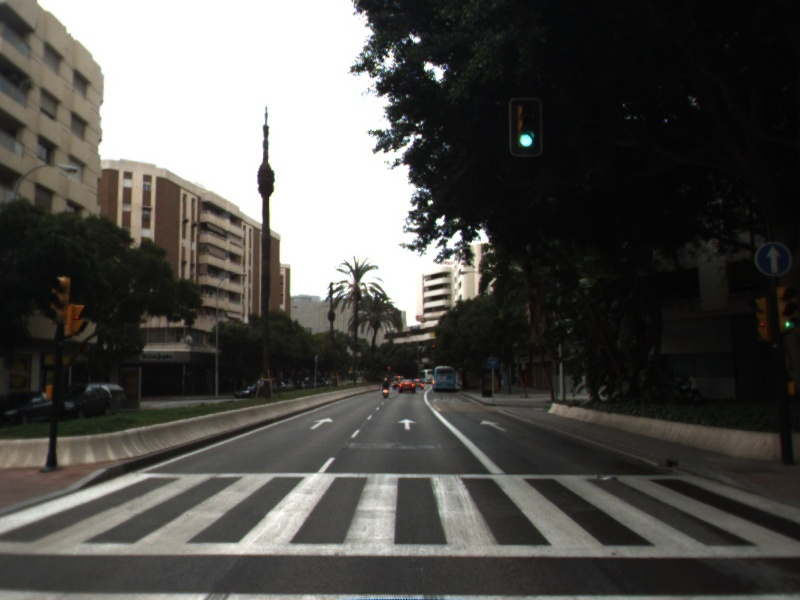STRAIGHT: (478, 418, 509, 434), (307, 415, 336, 432), (395, 417, 419, 432)
